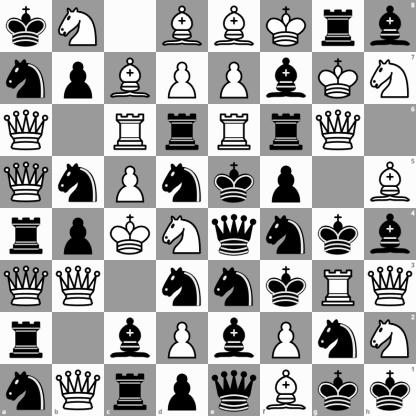B: (364, 156, 416, 209), (260, 364, 312, 416), (105, 53, 156, 104), (157, 1, 208, 52), (209, 1, 260, 52)
K: (105, 209, 156, 260), (261, 1, 312, 52), (313, 53, 364, 104)
N: (364, 52, 416, 104), (364, 312, 416, 364), (53, 1, 104, 52), (157, 209, 208, 260)
P: (105, 157, 156, 208), (157, 53, 208, 104), (157, 313, 208, 364), (209, 53, 260, 104), (261, 313, 312, 364)
Q: (52, 364, 104, 416), (364, 260, 416, 312), (1, 105, 52, 156), (1, 157, 52, 208), (1, 261, 52, 312), (53, 261, 104, 312), (313, 105, 364, 156)
R: (105, 105, 156, 156), (209, 105, 260, 156), (313, 261, 364, 312)
b: (364, 0, 416, 52), (364, 209, 416, 260), (105, 313, 156, 364), (209, 313, 260, 364), (261, 53, 312, 104)
board: (0, 0, 415, 415)
k: (312, 364, 364, 416), (364, 364, 416, 416), (1, 1, 52, 52), (209, 157, 260, 208), (261, 261, 312, 312), (313, 209, 364, 260)
n: (0, 364, 52, 416), (1, 53, 52, 104), (53, 157, 104, 208), (157, 157, 208, 208), (157, 261, 208, 312), (209, 261, 260, 312), (261, 209, 312, 260), (313, 313, 364, 364)
p: (156, 364, 209, 416), (53, 53, 104, 104), (53, 209, 104, 260), (261, 157, 312, 208)
q: (209, 364, 260, 416), (209, 209, 260, 260)
r: (104, 364, 156, 416), (1, 209, 52, 260), (1, 313, 52, 364), (157, 105, 208, 156), (261, 105, 312, 156), (313, 1, 364, 52)
